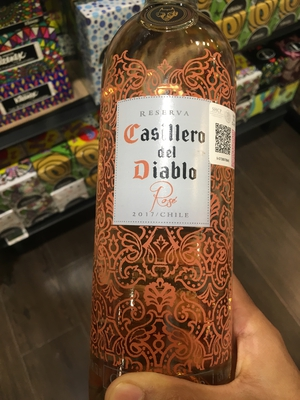casillero del diablo rose: (88, 6, 249, 397)
